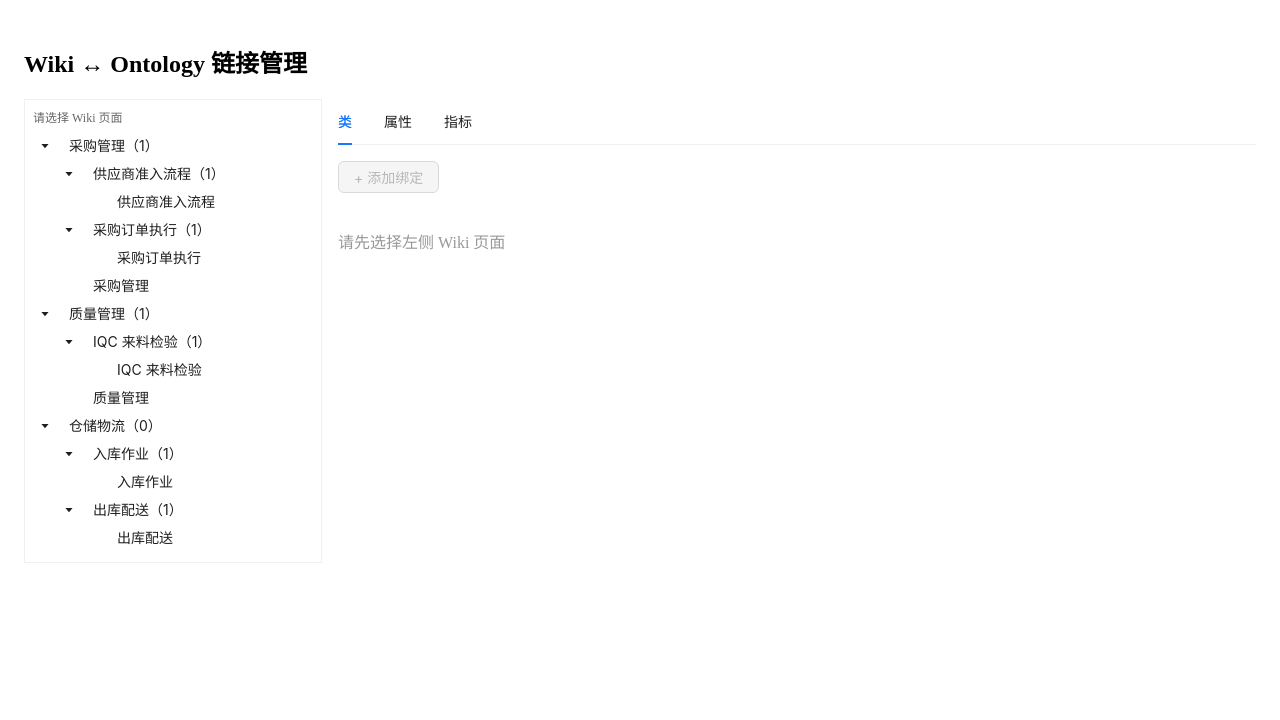
Test case: 链接列表显示对象名 › 对象已删（ontology_name 为 null）时显示 ID:ontology_id
The width and height of the screenshot is (1280, 720).
Click the element showing "供应商准入流程". click: (166, 202)
box: [109,190,223,214]
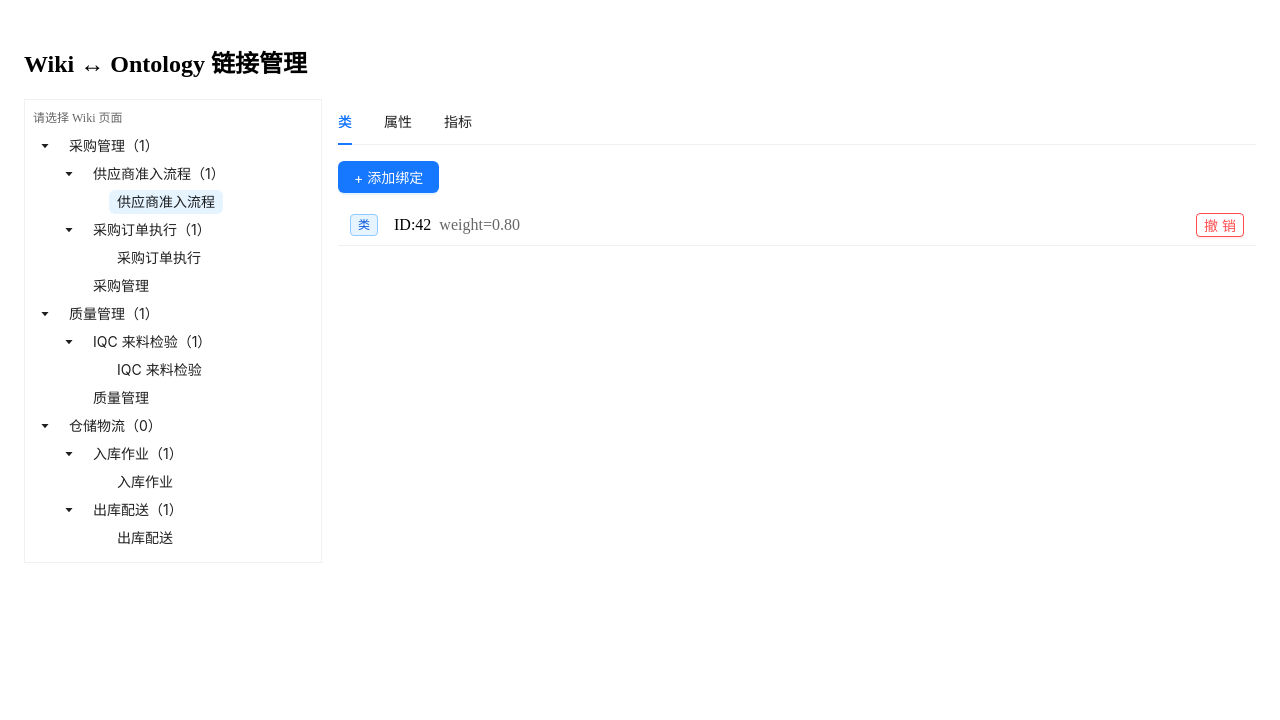
Expected: the button "+ 添加绑定" is enabled, [338,161,439,193]
Expected: the text "ID:42" is shown, [394,216,431,234]
